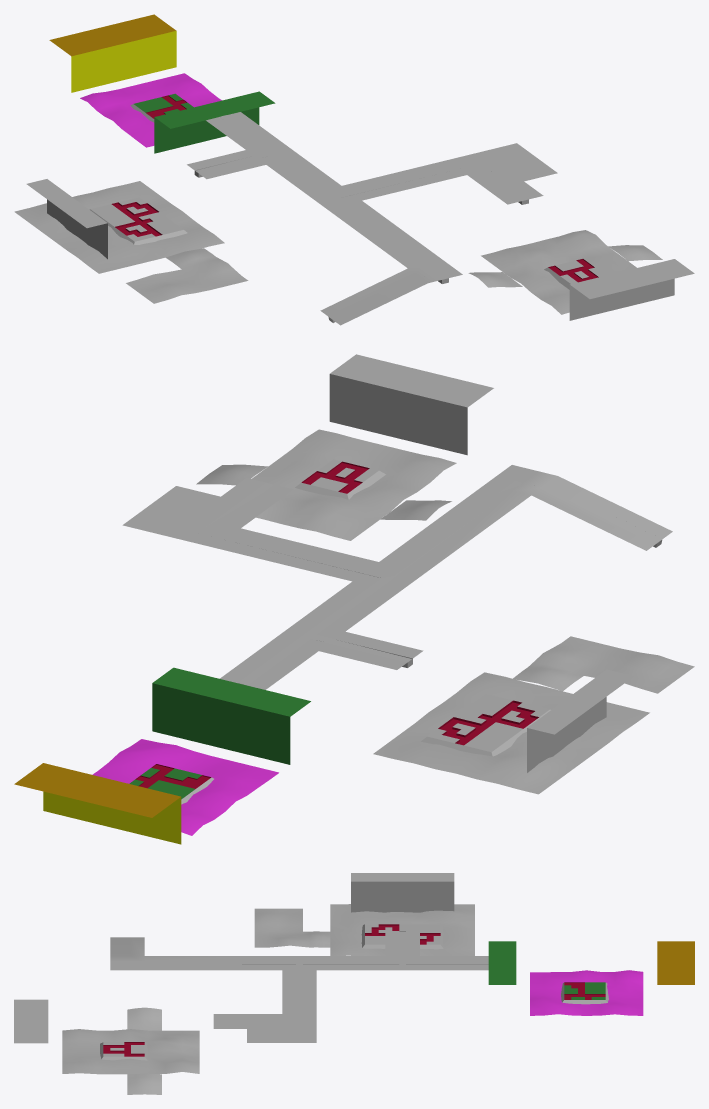
File: Fase_1_FBX.fbx
The picture shows the model from 3 angles, top to bottom: view 1: azimuth 30°, elevation 25°; view 2: azimuth 150°, elevation 25°; view 3: azimuth 270°, elevation 25°; orthographic projection. The views are drawn at different scales.
Parts seen in each view (by area): view 1: polySurface146; view 2: polySurface146; view 3: polySurface146.
Part boxes in pixels (x1,y1,x2,y2): polySurface146: (14, 14, 694, 325); polySurface146: (14, 354, 694, 844); polySurface146: (14, 873, 694, 1094).
Size of the model in its own units: 127 by 12.07 by 198.
